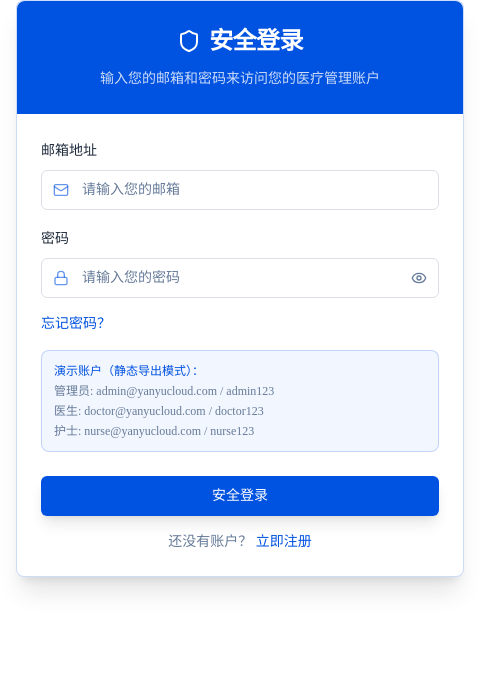
it: LoginForm › rejects unknown account
Step 1. Type "unknown@example.com" into the field labelled "邮箱地址" → coordinates (240, 190), box [41,170,439,210]
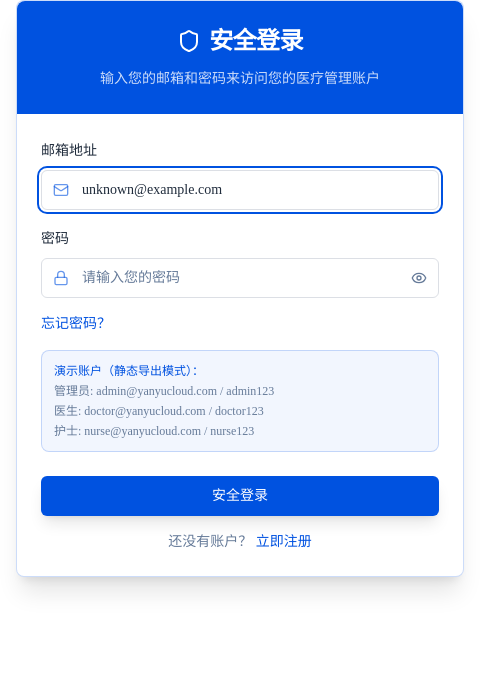
Step 2. Type "password" into the password field labelled "密码" → coordinates (240, 278), box [41,258,439,298]
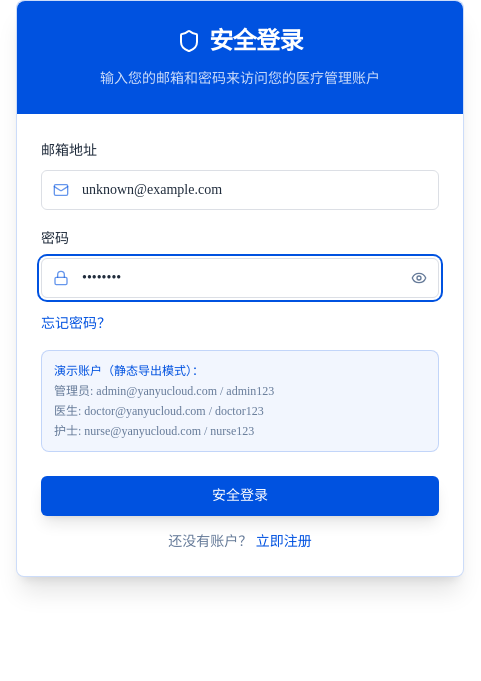
Step 3. Click the button "安全登录" → coordinates (240, 496), box [41,476,439,516]
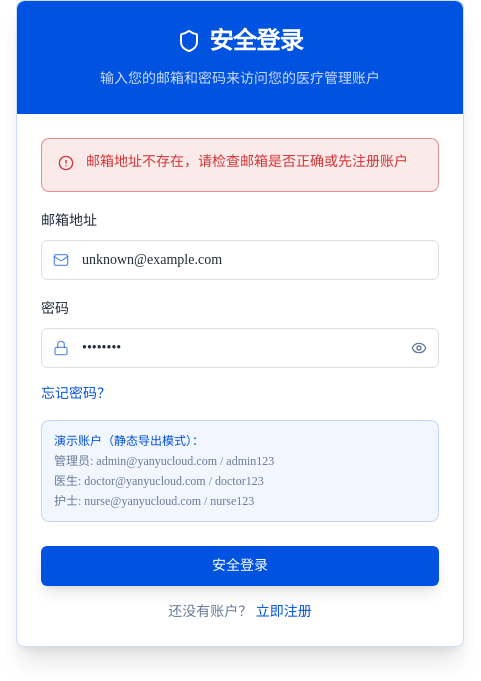
Check: the text "邮箱地址不存在，请检查邮箱是否正确或先注册账户" is shown, box [58,152,422,172]
